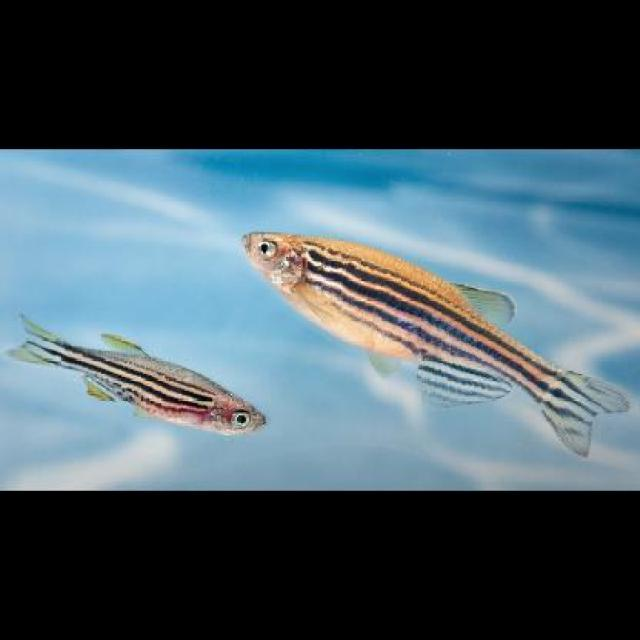ZebraFish: (241, 229, 633, 457), (7, 311, 270, 434)
